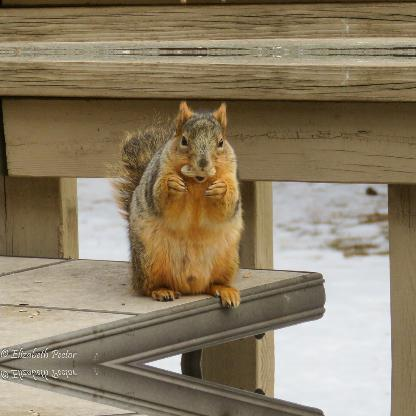Squirrel: (108, 100, 240, 308)
